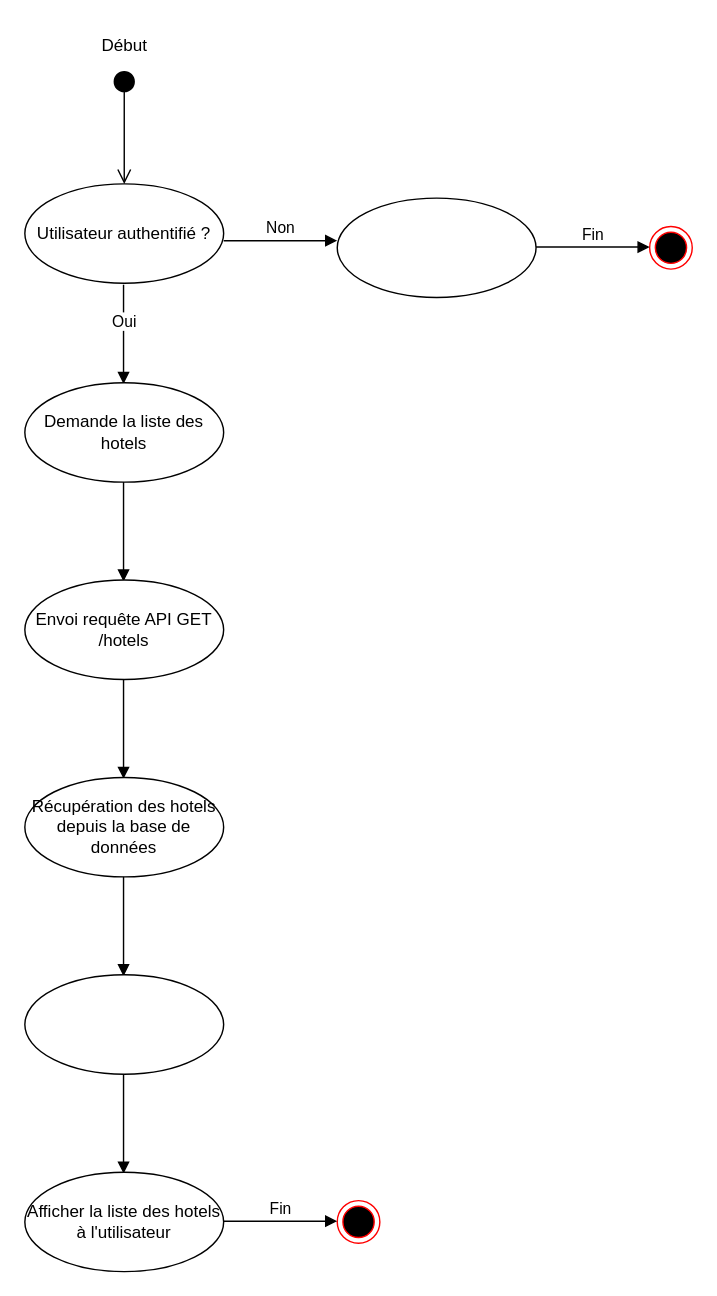
Some shapes in this 717 by 1296 pixel diagram are drawn without their labels. The centre of each missing label's shape, as x and y in pixels:
Redirection vers la page de connexion: (x=436, y=247)
Retourner la liste des hotels en JSON: (x=123, y=1023)
